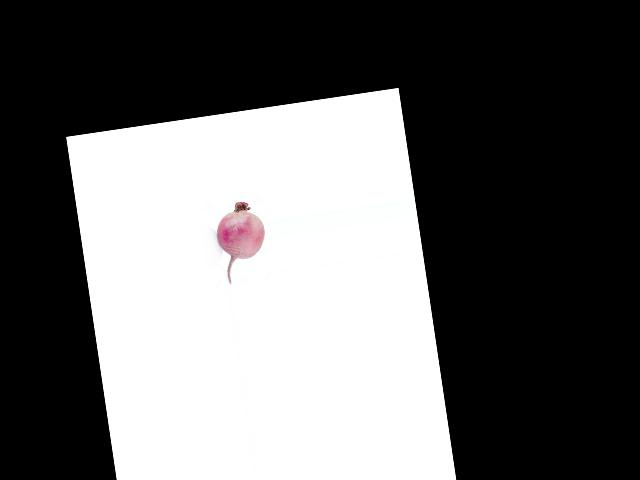beet: (212, 199, 270, 284)
